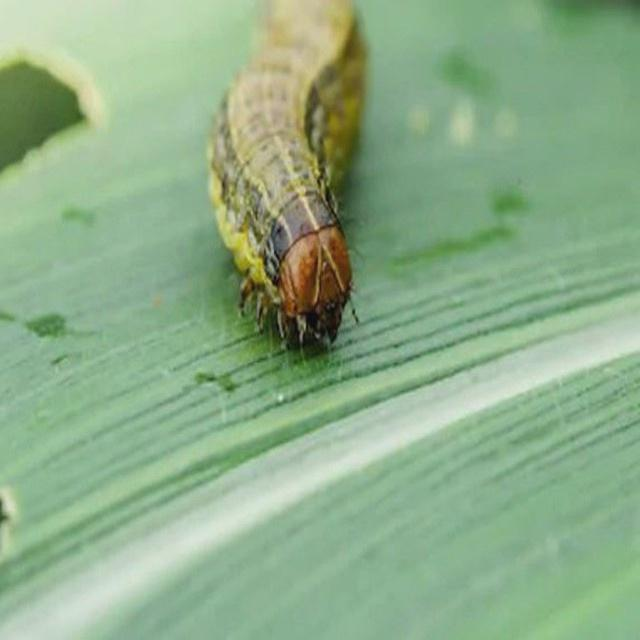gusano_cogollero: (205, 18, 365, 335)
